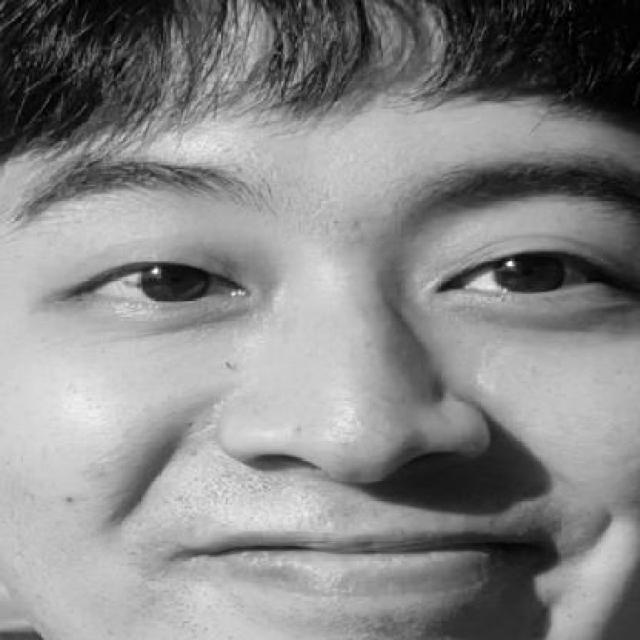happy: (17, 112, 640, 640)
